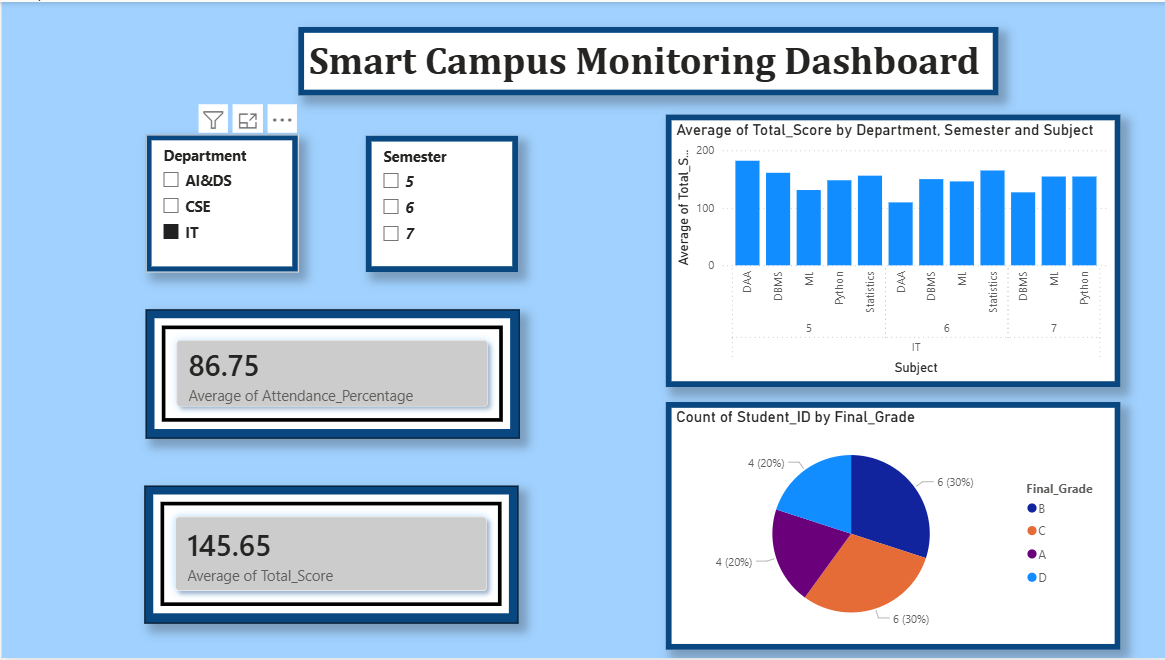

Layout of this report page (visuals, bound fields, positions):
{"tool":"powerbi","page":{"name":"Page 1","canvas":[1280,720],"ordinal":0},"visuals":[{"type":"textbox","box":[325.2,27.4,768.4,75.5],"z":0},{"type":"cardVisual","fields":{"Data":["Avg(5 student_performance.Attendance_Percentage)"]},"box":[157.8,337.6,410.3,141.3],"z":1000},{"type":"cardVisual","fields":{"Data":["Avg(5 student_performance.Total_Score)"]},"box":[156.4,531,410.3,150.9],"z":2000},{"type":"slicer","fields":{"Values":["5 student_performance.Department"]},"box":[157.8,145.5,167.4,150.9],"z":3000},{"type":"slicer","fields":{"Values":["5 student_performance.Semester"]},"box":[399.3,146.8,167.4,149.6],"z":4000},{"type":"clusteredColumnChart","fields":{"Y":["Avg(5 student_performance.Total_Score)"],"Category":["5 student_performance.Department","5 student_performance.Semester","5 student_performance.Subject"]},"box":[728.6,123.5,499.5,299.1],"z":5000},{"type":"pieChart","fields":{"Category":["5 student_performance.Final_Grade"],"Y":["CountNonNull(5 student_performance.Student_ID)"]},"box":[728.6,439.1,499.5,271.7],"z":6000}]}

Visuals, with their boxes in screenshot pixels (x1, y1, x2, y2), scaled from the page's 1280x720 canvas onto the 1165x660 screenshot:
textbox: (296,25,995,94)
cardVisual - Avg(5 student_performance.Attendance_Percentage): (144,309,517,439)
cardVisual - Avg(5 student_performance.Total_Score): (142,487,516,625)
slicer - 5 student_performance.Department: (144,133,296,272)
slicer - 5 student_performance.Semester: (363,135,516,272)
clusteredColumnChart - Avg(5 student_performance.Total_Score) x 5 student_performance.Department: (663,113,1118,387)
pieChart - 5 student_performance.Final_Grade x CountNonNull(5 student_performance.Student_ID): (663,403,1118,652)
